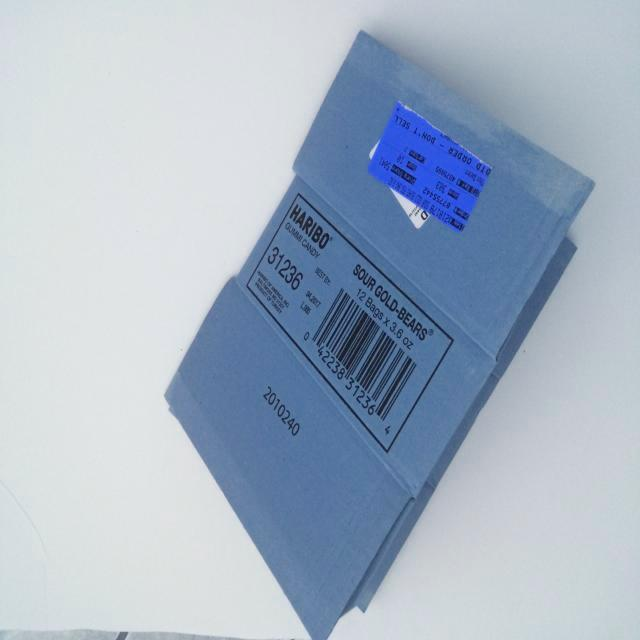cardboard: (141, 24, 597, 640)
